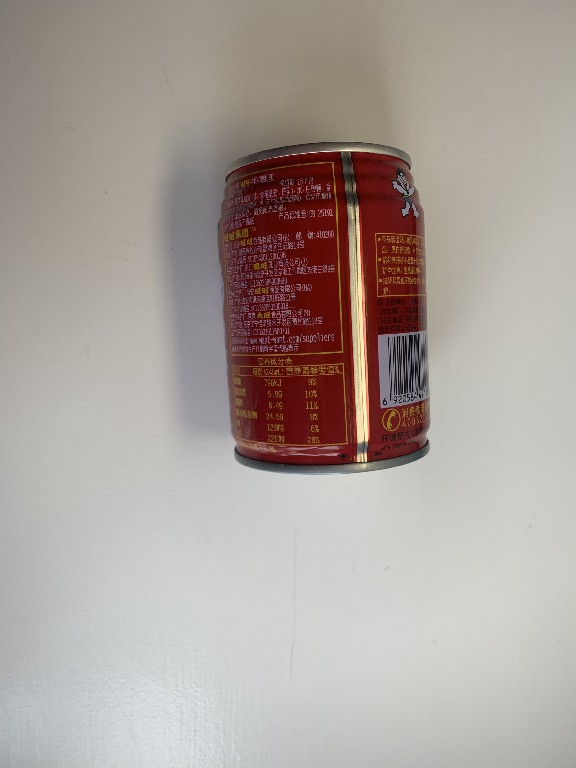can: (211, 135, 441, 483)
